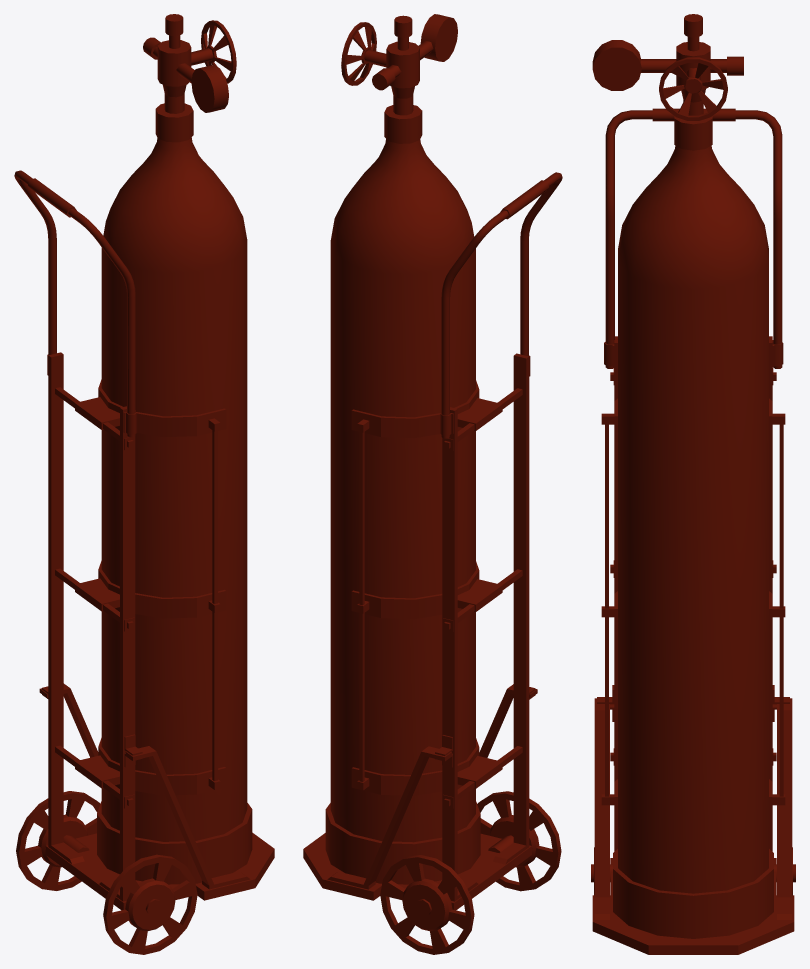
Rendered from gas1.FBX.
3 views of the same model, side by side, from view 1: azimuth 30°, elevation 25°; view 2: azimuth 150°, elevation 25°; view 3: azimuth 270°, elevation 25° (orthographic). The views are drawn at different scales.
Parts seen in each view (by area): view 1: gas1; view 2: gas1; view 3: gas1.
Part boxes in pixels (x1,y1,x2,y2): gas1: (14, 14, 274, 954); gas1: (303, 14, 562, 954); gas1: (591, 14, 795, 954).
Bounding box in the file's own units: 36.25 × 149 × 29.39.
